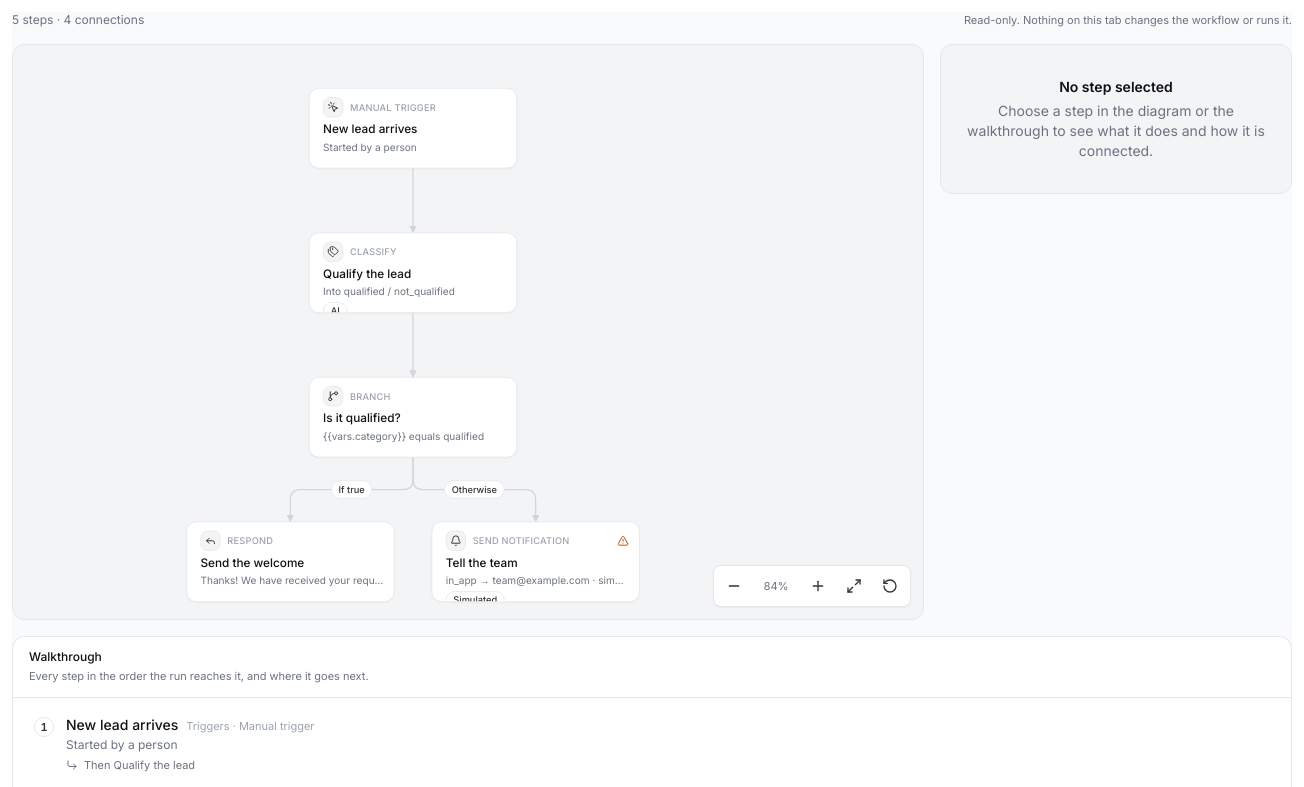
Scenario: WorkflowPreview navigation › zooms in and out, and stops at the limits
This screenshot has width=1304, height=787.
Click the button named "Zoom in": coordinates (818, 586) x1=802 y1=570 x2=834 y2=602
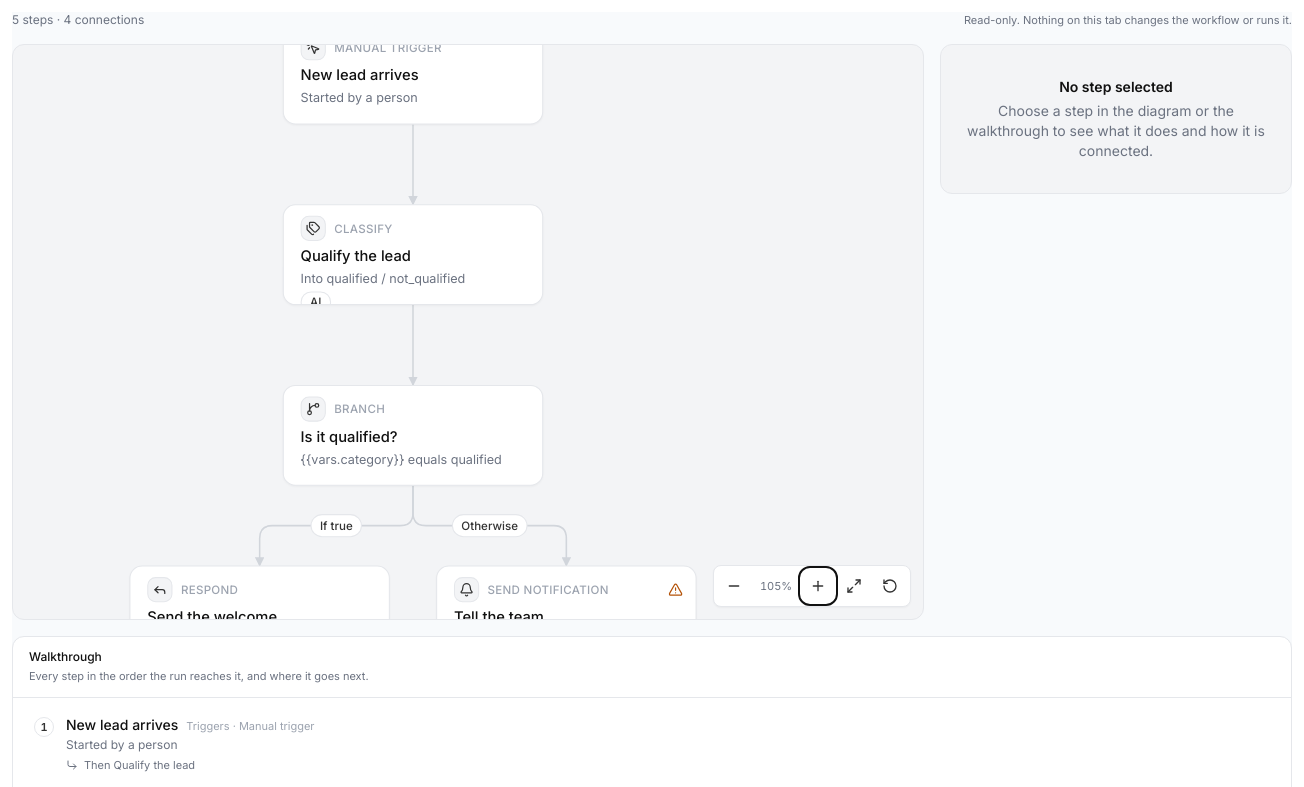
Click the button named "Zoom out": coordinates (734, 586) x1=718 y1=570 x2=750 y2=602
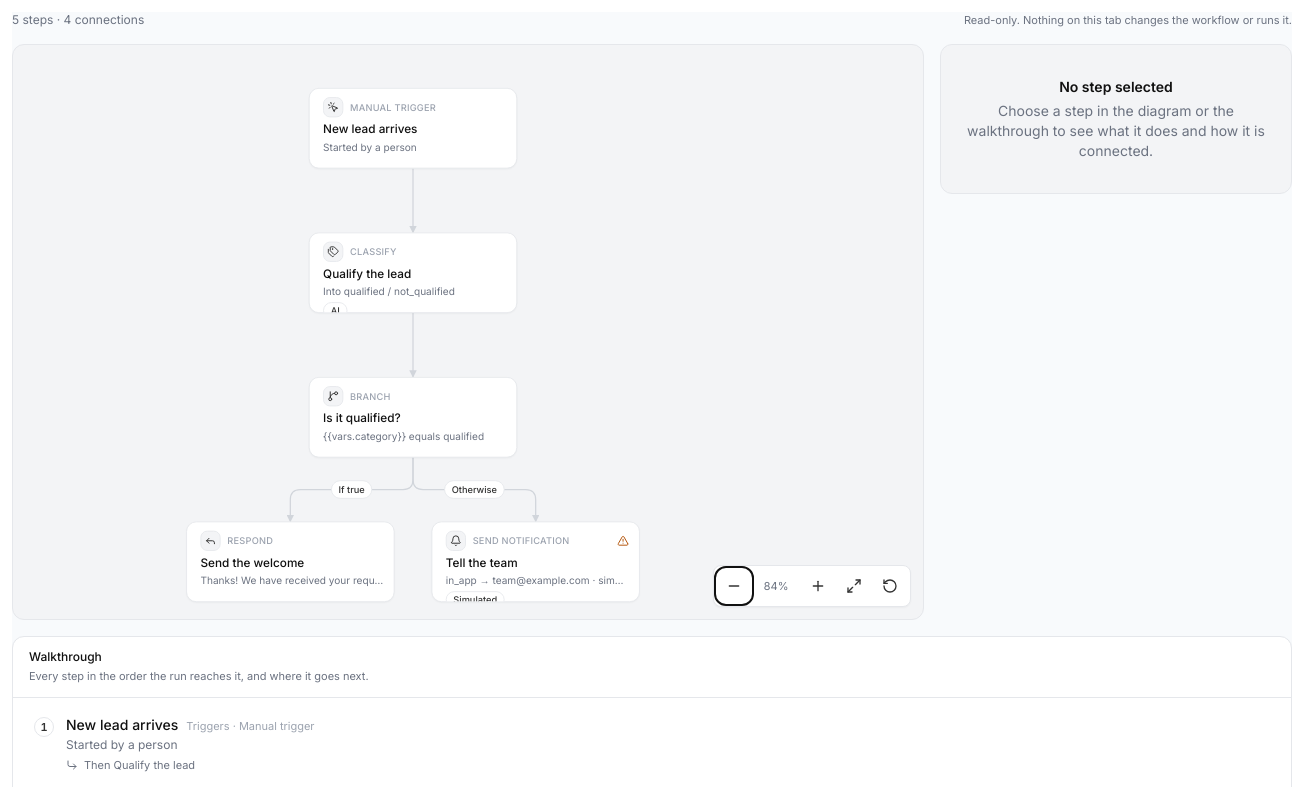
Click the button named "Zoom in": coordinates (818, 586) x1=802 y1=570 x2=834 y2=602
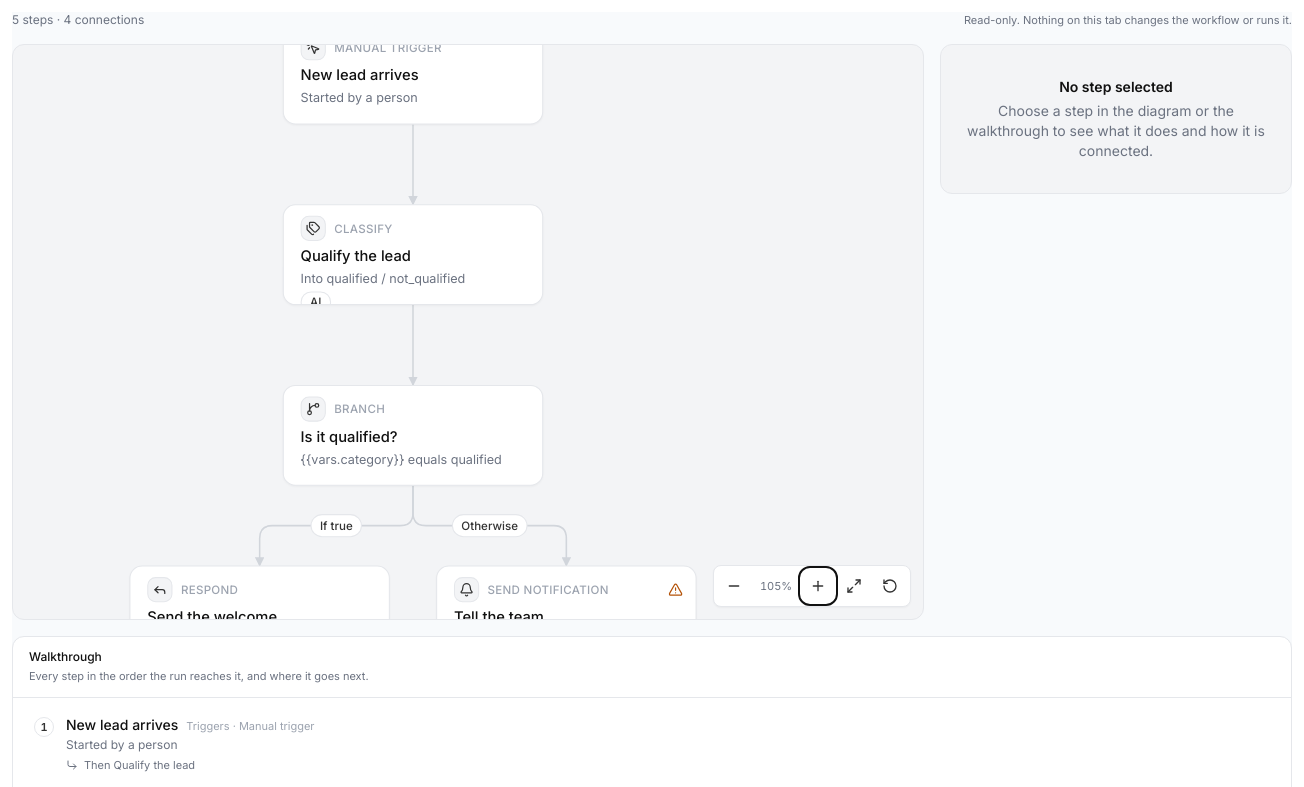
Click the button named "Zoom in": coordinates (818, 586) x1=802 y1=570 x2=834 y2=602
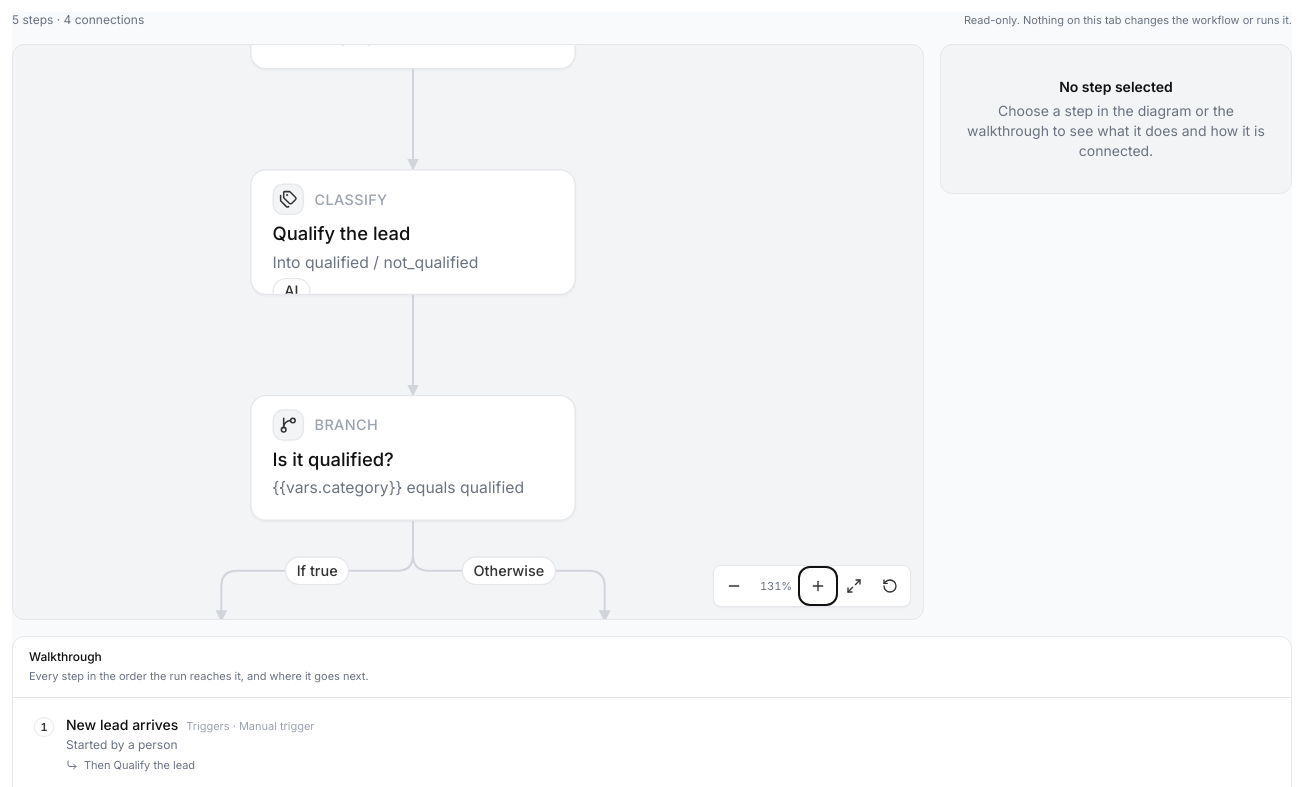
Click the button named "Zoom in": coordinates (818, 586) x1=802 y1=570 x2=834 y2=602
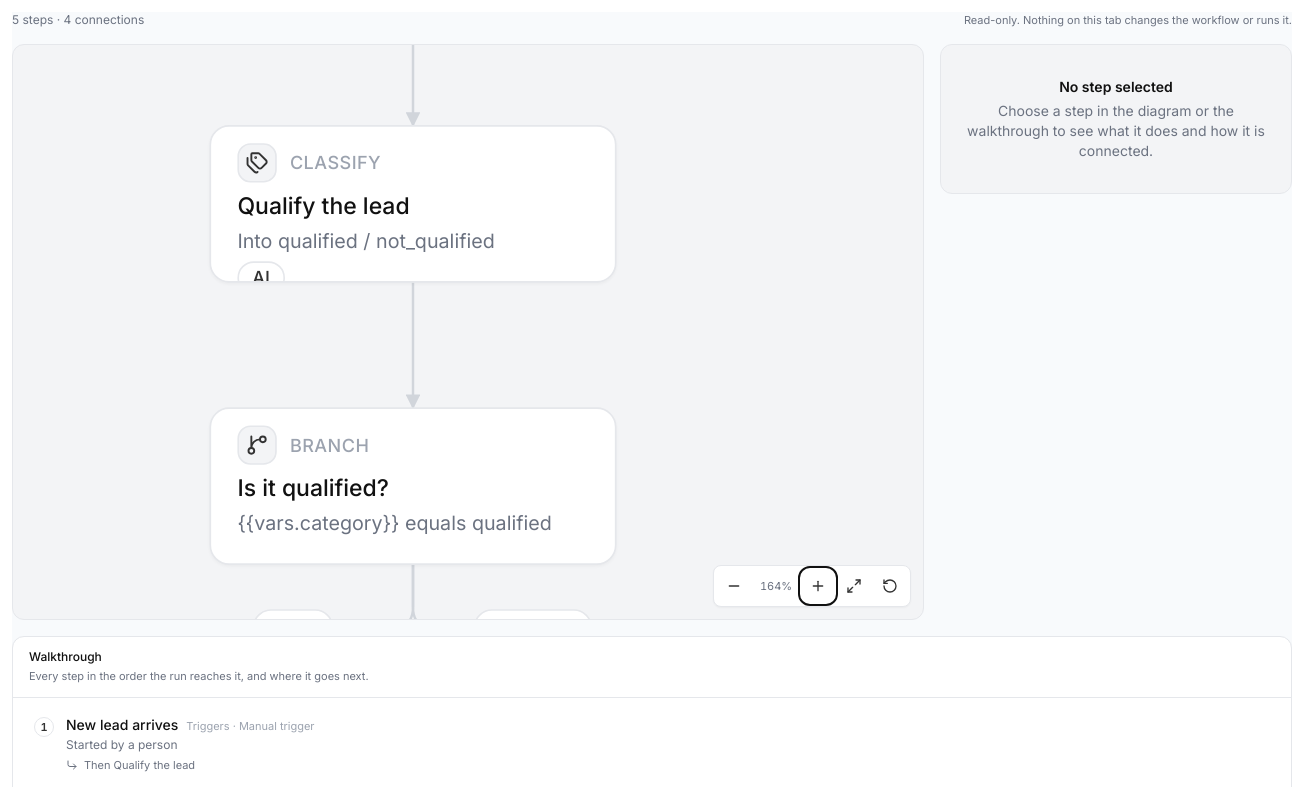
Click the button named "Zoom in": coordinates (818, 586) x1=802 y1=570 x2=834 y2=602
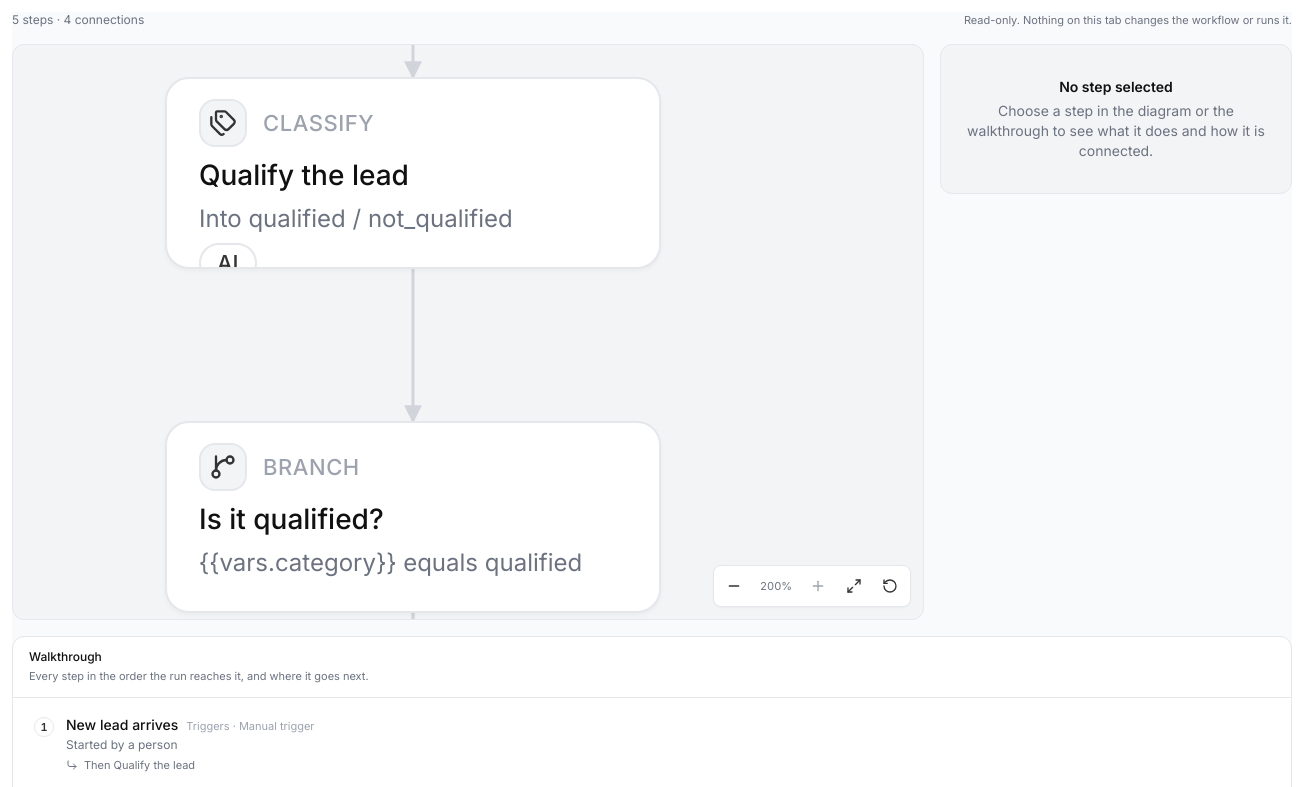
Now the button named "Zoom in" is disabled, box x1=802 y1=570 x2=834 y2=602
